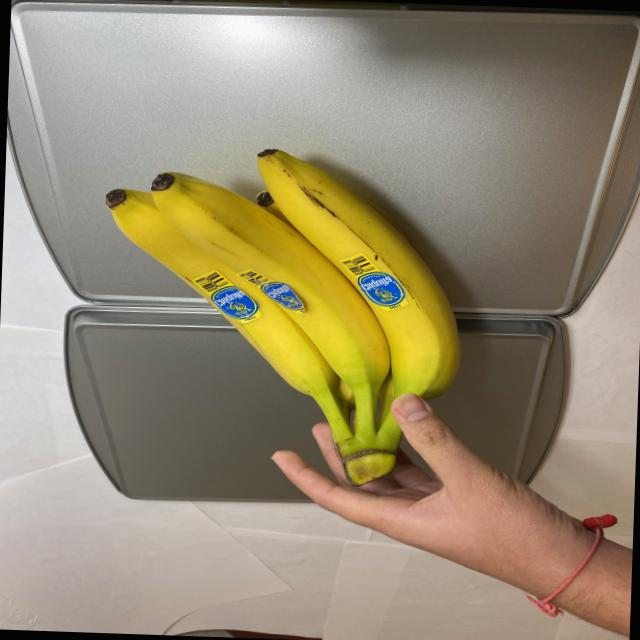banana: (92, 143, 473, 489)
